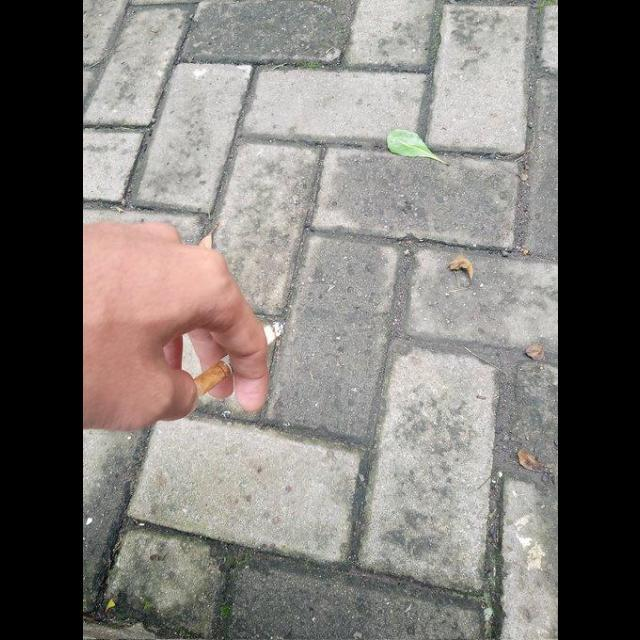rokok: (166, 306, 286, 408)
